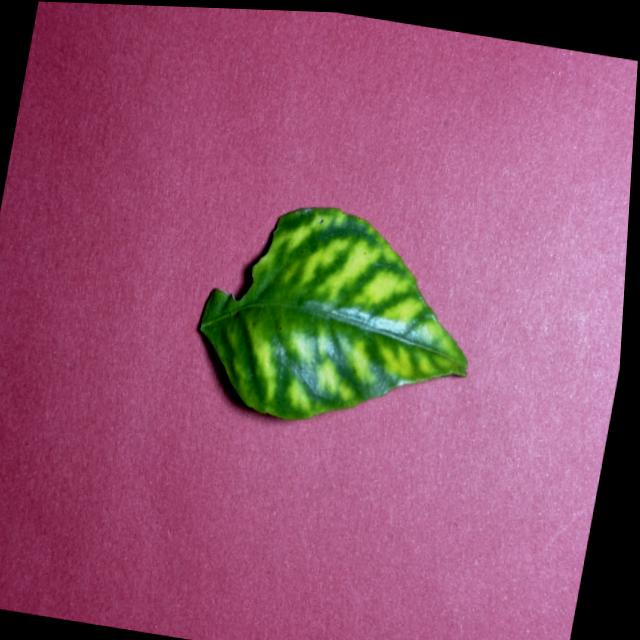greening: (198, 208, 465, 419)
